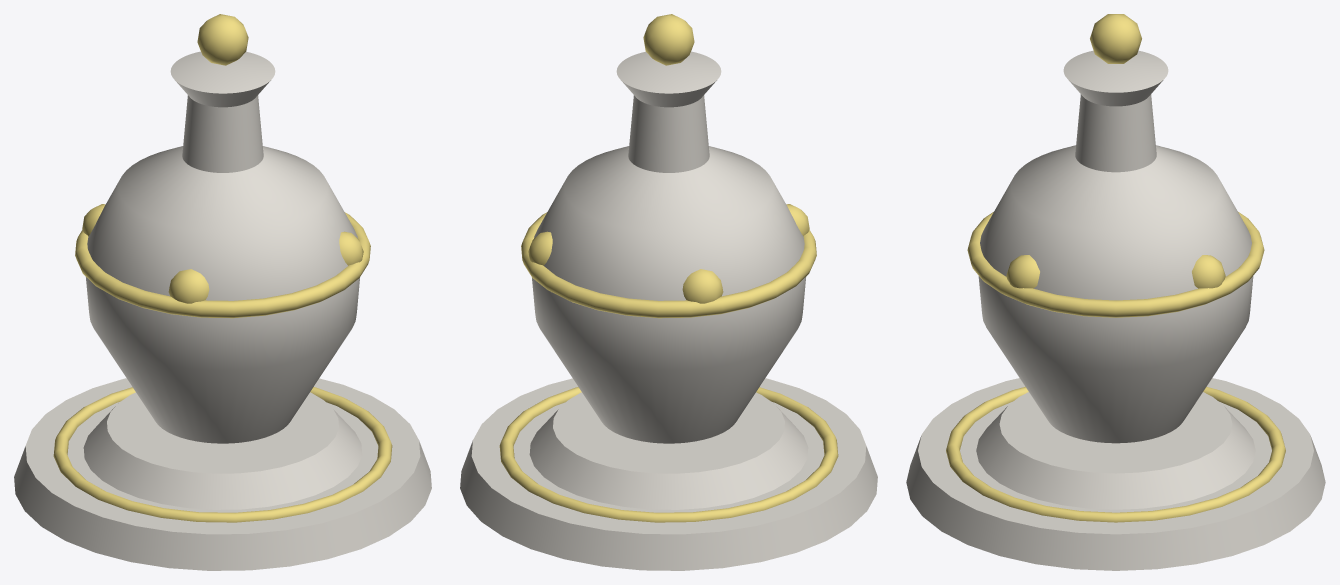
File: MuseoDelOro_Torre.fbx
3 renders of one model, left to right at view 1: azimuth 30°, elevation 25°; view 2: azimuth 150°, elevation 25°; view 3: azimuth 270°, elevation 25°, orthographic.
Parts seen in each view (by area): view 1: MuseoDelOro_Torre; view 2: MuseoDelOro_Torre; view 3: MuseoDelOro_Torre.
Boxes of the visible parts, x1,y1,x2,y2 form: MuseoDelOro_Torre: (14, 14, 431, 570); MuseoDelOro_Torre: (460, 14, 877, 570); MuseoDelOro_Torre: (906, 14, 1325, 570).
Bounding box in the file's own units: 0.72 × 0.885 × 0.72.
